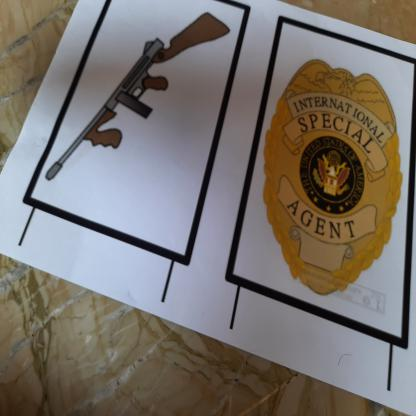Bootlegger: (46, 6, 233, 216)
G-man: (257, 54, 412, 313)
